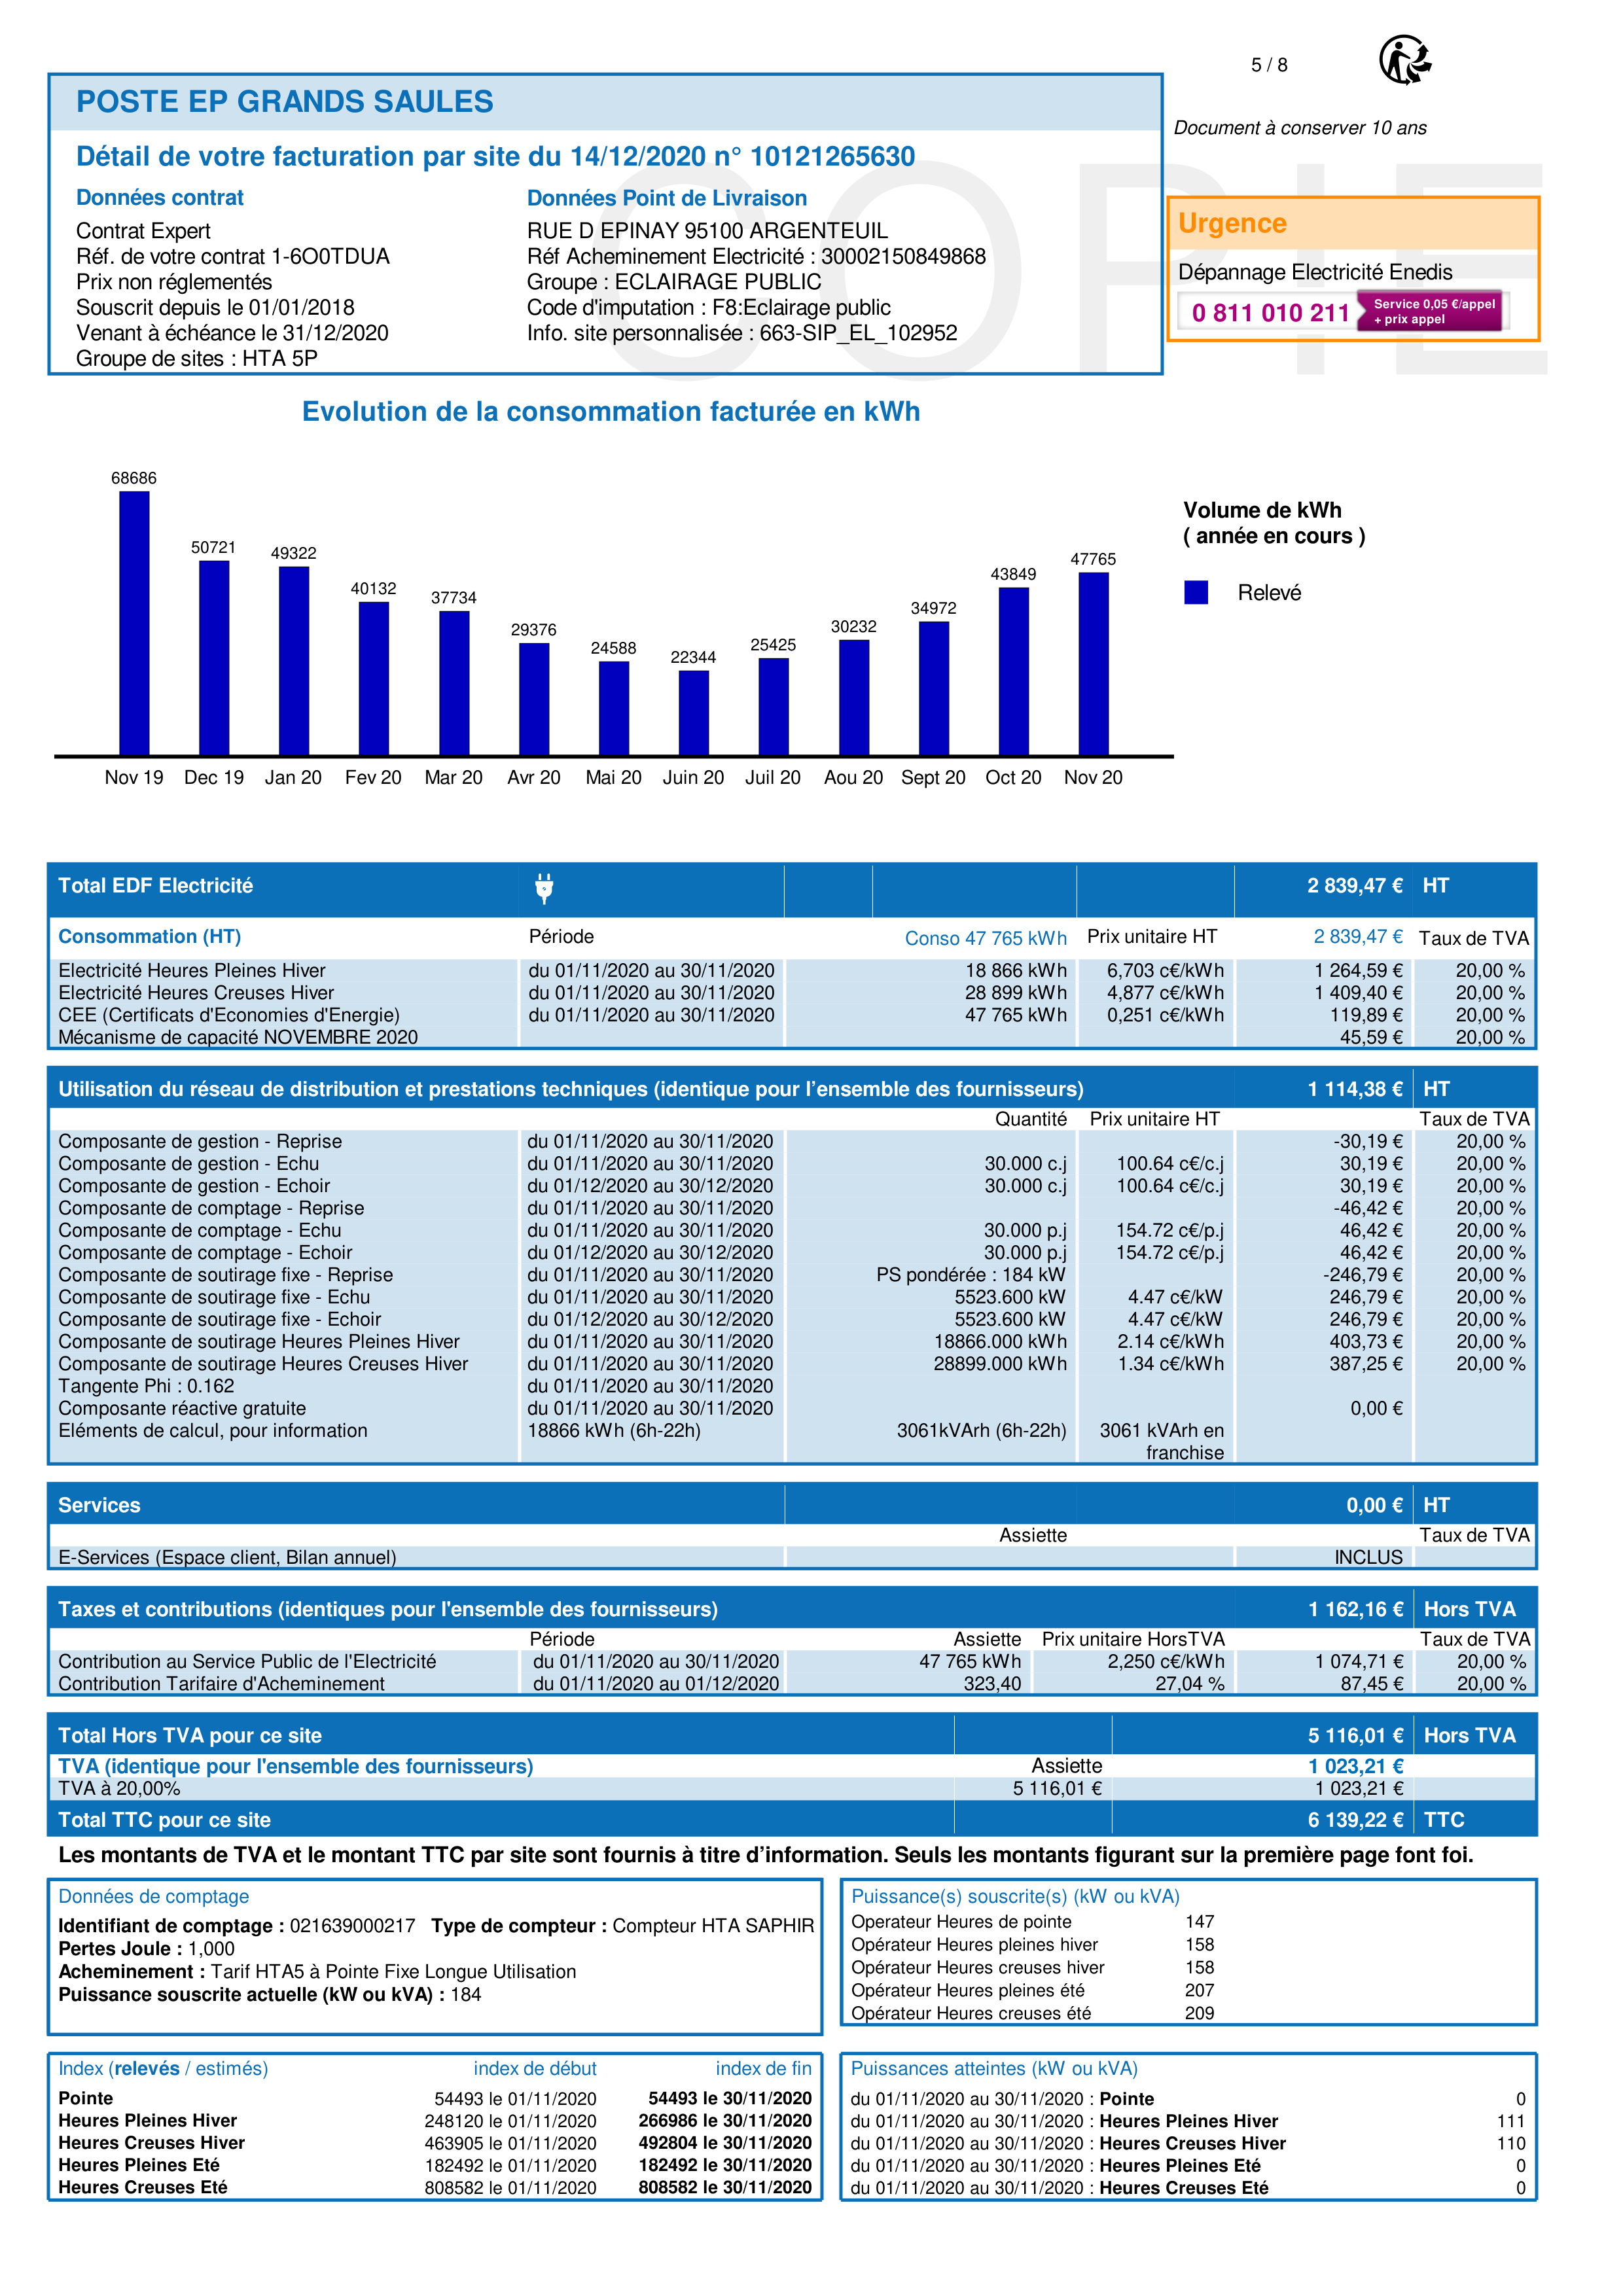area: (46, 2052, 824, 2199)
type_indicator: (47, 2052, 281, 2085)
